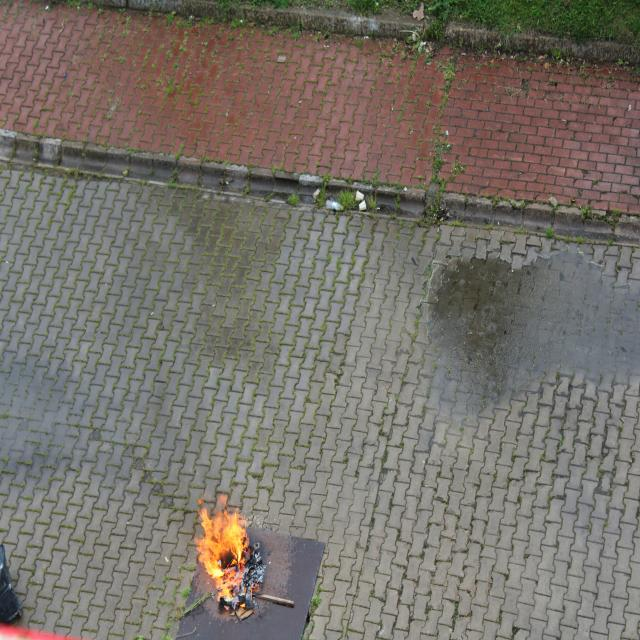fire: (195, 504, 249, 605)
